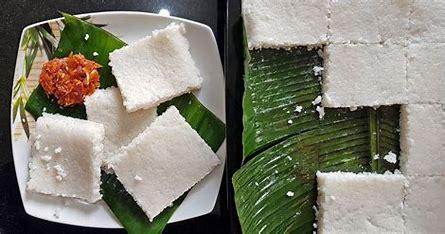Kiribath: (244, 23, 439, 234), (107, 30, 219, 219)
Lunu sambol: (41, 44, 105, 114)
